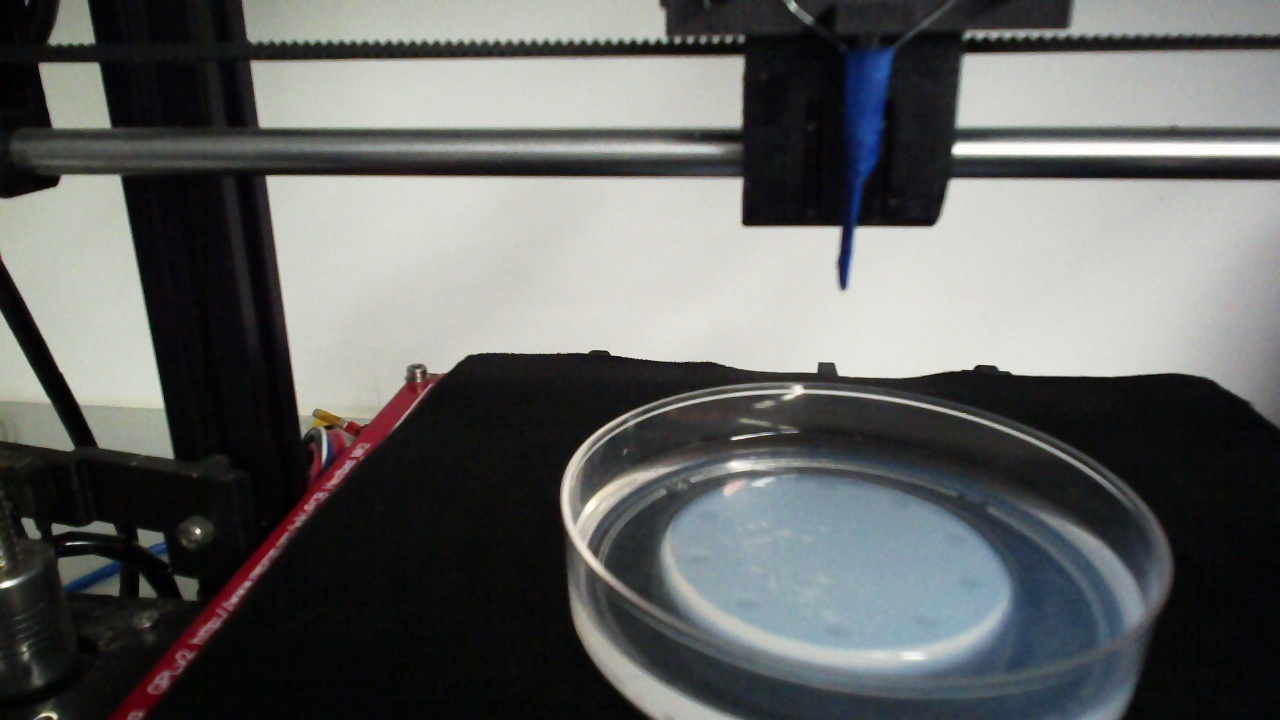groove: (822, 622, 854, 642), (883, 492, 913, 512), (957, 576, 988, 594), (916, 612, 945, 631), (734, 597, 762, 616), (945, 531, 972, 550), (685, 552, 714, 568), (697, 509, 722, 526)
needle: (837, 53, 893, 289)
